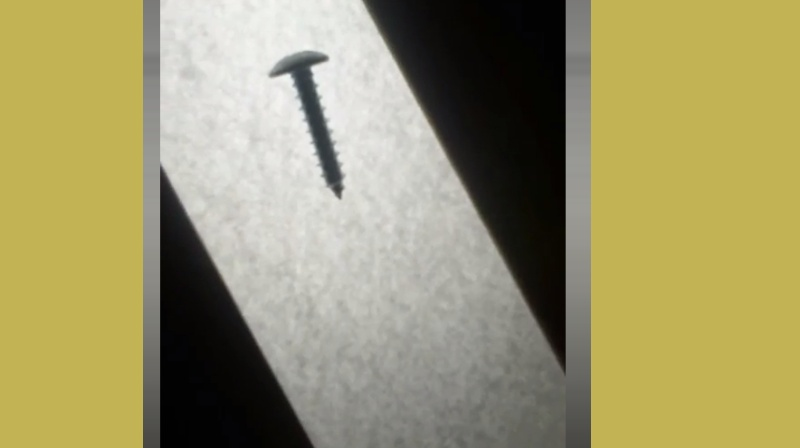S003: (265, 45, 347, 204)
